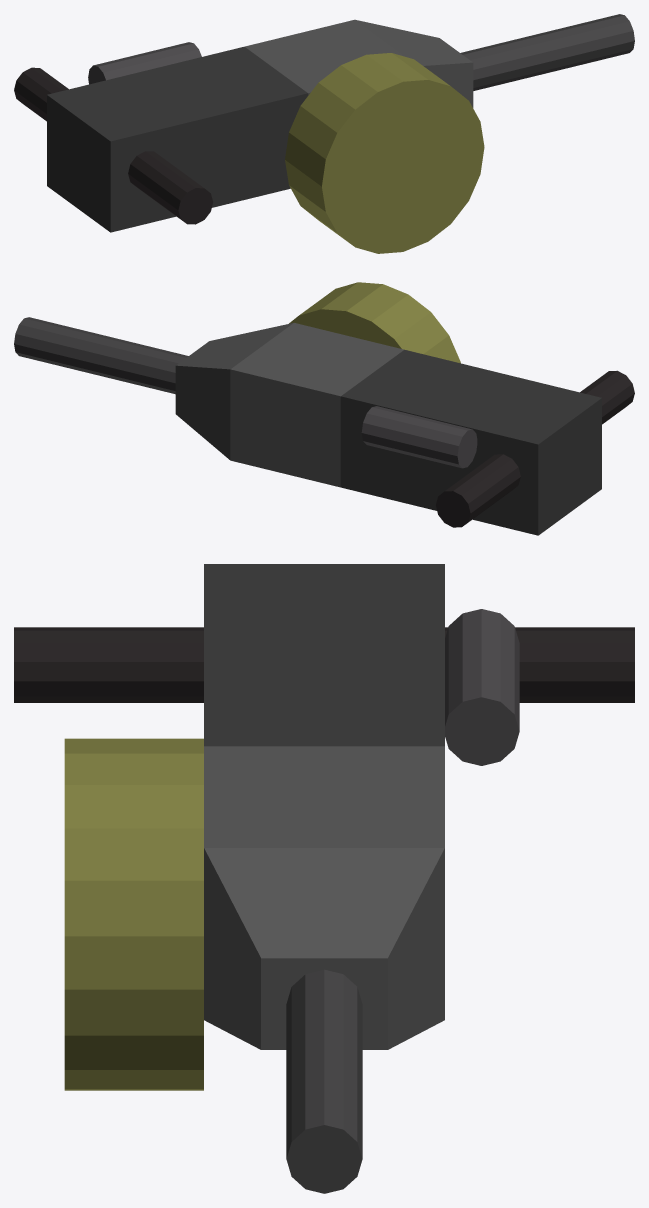
The model's file is ce_ags30_gun.obj.
3 views of the same model, one above another, from view 1: azimuth 30°, elevation 25°; view 2: azimuth 150°, elevation 25°; view 3: azimuth 270°, elevation 25° (orthographic). The views are drawn at different scales.
Visible parts, largest first — view 1: ce_ags30_gun_rear, ce_ags30_gun_drum, ce_ags30_gun_barrel, ce_ags30_gun_front, ce_ags30_gun_handle-1, ce_ags30_gun_taper, ce_ags30_gun_sight, ce_ags30_gun_handle1; view 2: ce_ags30_gun_rear, ce_ags30_gun_front, ce_ags30_gun_drum, ce_ags30_gun_barrel, ce_ags30_gun_taper, ce_ags30_gun_sight, ce_ags30_gun_handle1, ce_ags30_gun_handle-1; view 3: ce_ags30_gun_drum, ce_ags30_gun_rear, ce_ags30_gun_taper, ce_ags30_gun_front, ce_ags30_gun_barrel, ce_ags30_gun_handle-1, ce_ags30_gun_sight, ce_ags30_gun_handle1.
Boxes of the visible parts, bbox=[...] form: ce_ags30_gun_rear: bbox=[47, 46, 308, 232]; ce_ags30_gun_drum: bbox=[285, 53, 484, 253]; ce_ags30_gun_barrel: bbox=[460, 14, 634, 90]; ce_ags30_gun_front: bbox=[245, 19, 404, 95]; ce_ags30_gun_handle-1: bbox=[128, 151, 212, 224]; ce_ags30_gun_taper: bbox=[355, 19, 473, 107]; ce_ags30_gun_sight: bbox=[88, 42, 201, 84]; ce_ags30_gun_handle1: bbox=[14, 67, 68, 121]; ce_ags30_gun_rear: bbox=[340, 349, 601, 535]; ce_ags30_gun_front: bbox=[230, 323, 403, 487]; ce_ags30_gun_drum: bbox=[289, 282, 460, 363]; ce_ags30_gun_barrel: bbox=[14, 317, 188, 394]; ce_ags30_gun_taper: bbox=[175, 323, 293, 459]; ce_ags30_gun_sight: bbox=[361, 406, 477, 468]; ce_ags30_gun_handle1: bbox=[436, 454, 520, 527]; ce_ags30_gun_handle-1: bbox=[580, 370, 634, 424]; ce_ags30_gun_drum: bbox=[64, 738, 203, 1090]; ce_ags30_gun_rear: bbox=[204, 564, 444, 746]; ce_ags30_gun_taper: bbox=[204, 848, 444, 1049]; ce_ags30_gun_front: bbox=[204, 746, 444, 847]; ce_ags30_gun_barrel: bbox=[286, 969, 362, 1193]; ce_ags30_gun_handle-1: bbox=[14, 627, 203, 702]; ce_ags30_gun_sight: bbox=[445, 609, 519, 765]; ce_ags30_gun_handle1: bbox=[445, 627, 634, 702].
Size of the model in its own units: 0.94 by 0.28 by 0.49.
